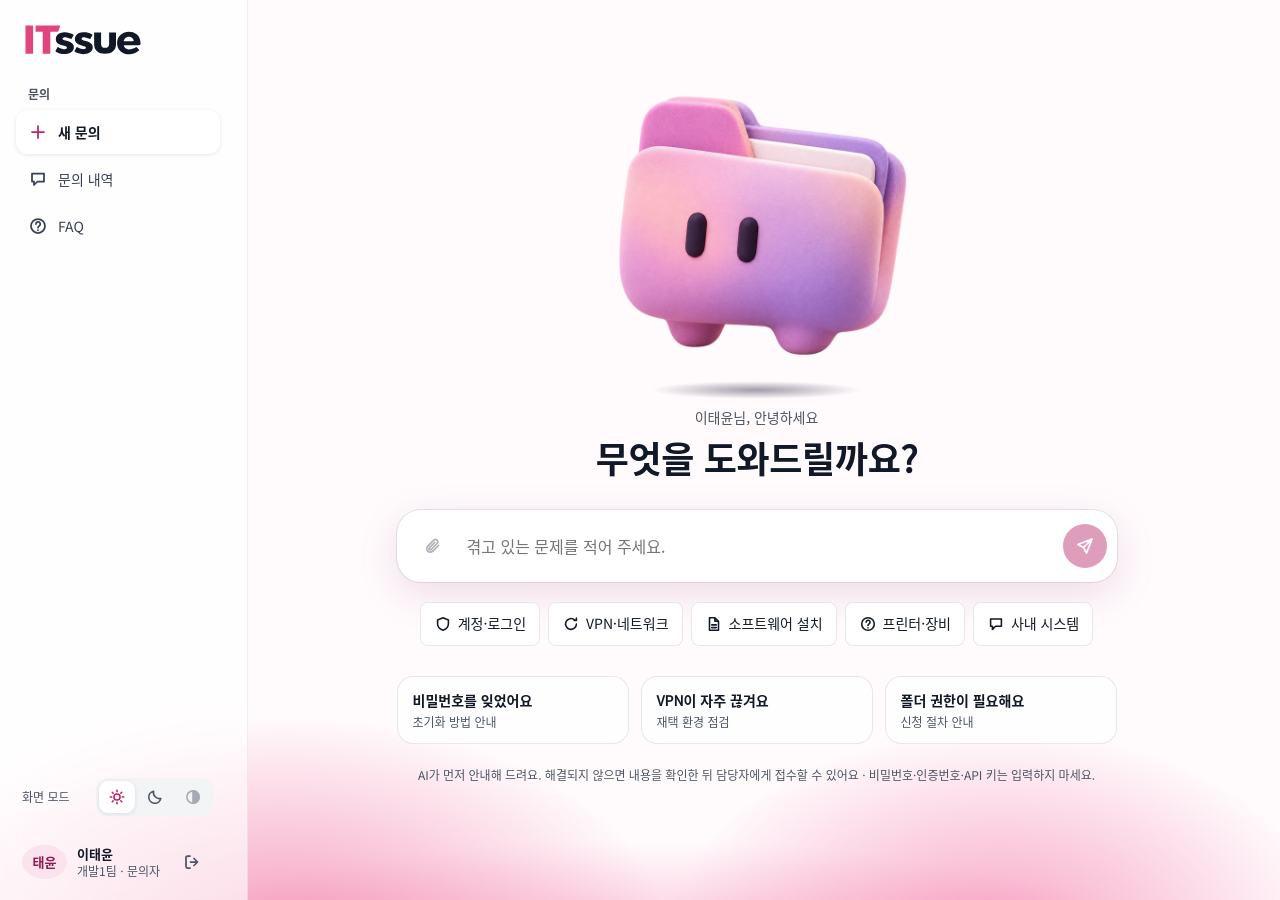
Test: 새 문의 (챗봇 시작 화면) › 칩을 누르면 입력창에 문장만 채워지고 바로 보내지지 않는다
Click the button "계정·로그인" at (480,624), box [420,602,540,646]
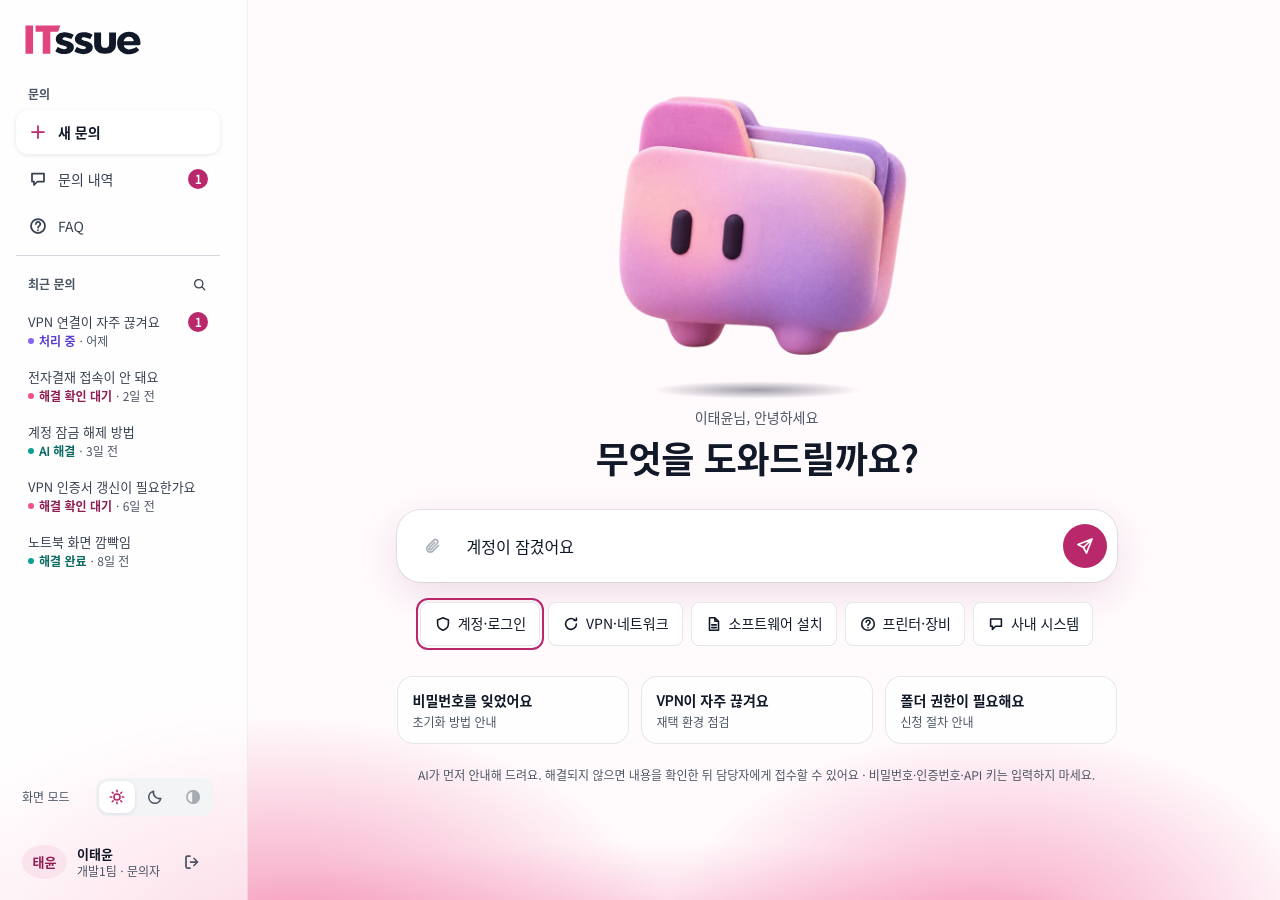
Now the text box named "메시지 입력" holds "계정이 잠겼어요", box [460,524,1056,568]
